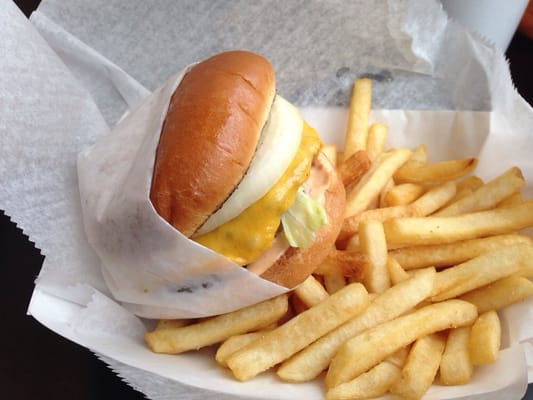soup: (149, 50, 339, 274)
